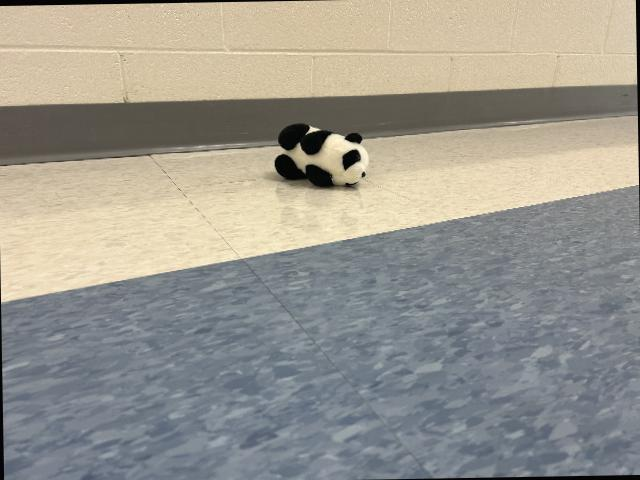panda_plushie: (274, 122, 369, 188)
